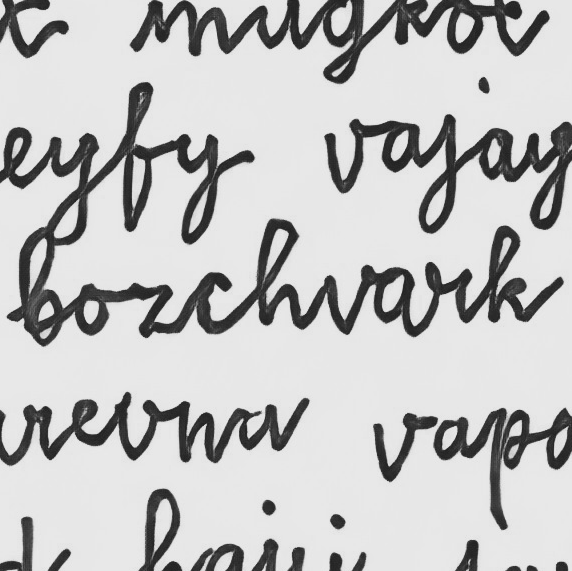a: (372, 264, 418, 328)
b: (14, 224, 67, 348)
c: (192, 269, 238, 336)
h: (252, 213, 305, 331)
k: (483, 222, 529, 325)
o: (71, 279, 112, 338)
r: (419, 259, 476, 328)
v: (322, 264, 371, 337)
z: (127, 279, 176, 339)
